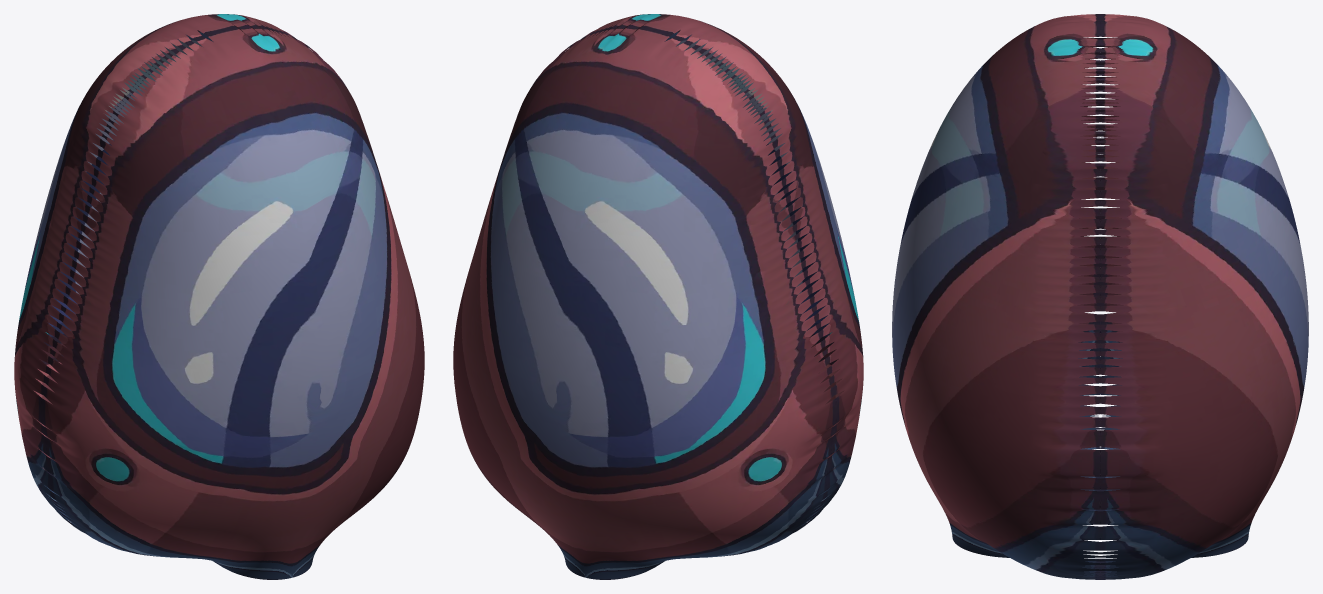
The model's file is windowed_pod.glb.
3 views of the same model, side by side, from view 1: azimuth 30°, elevation 25°; view 2: azimuth 150°, elevation 25°; view 3: azimuth 270°, elevation 25° (orthographic). The views are drawn at different scales.
Parts seen in each view (by area): view 1: windowed_pod; view 2: windowed_pod; view 3: windowed_pod.
Boxes of the visible parts, <box> form: windowed_pod: <box>14,14,424,579</box>; windowed_pod: <box>453,14,863,579</box>; windowed_pod: <box>892,14,1308,579</box>.
Size of the model in its own units: 0.9854 by 1.31 by 0.9728.
Materials: 1 (1 with a texture image).
